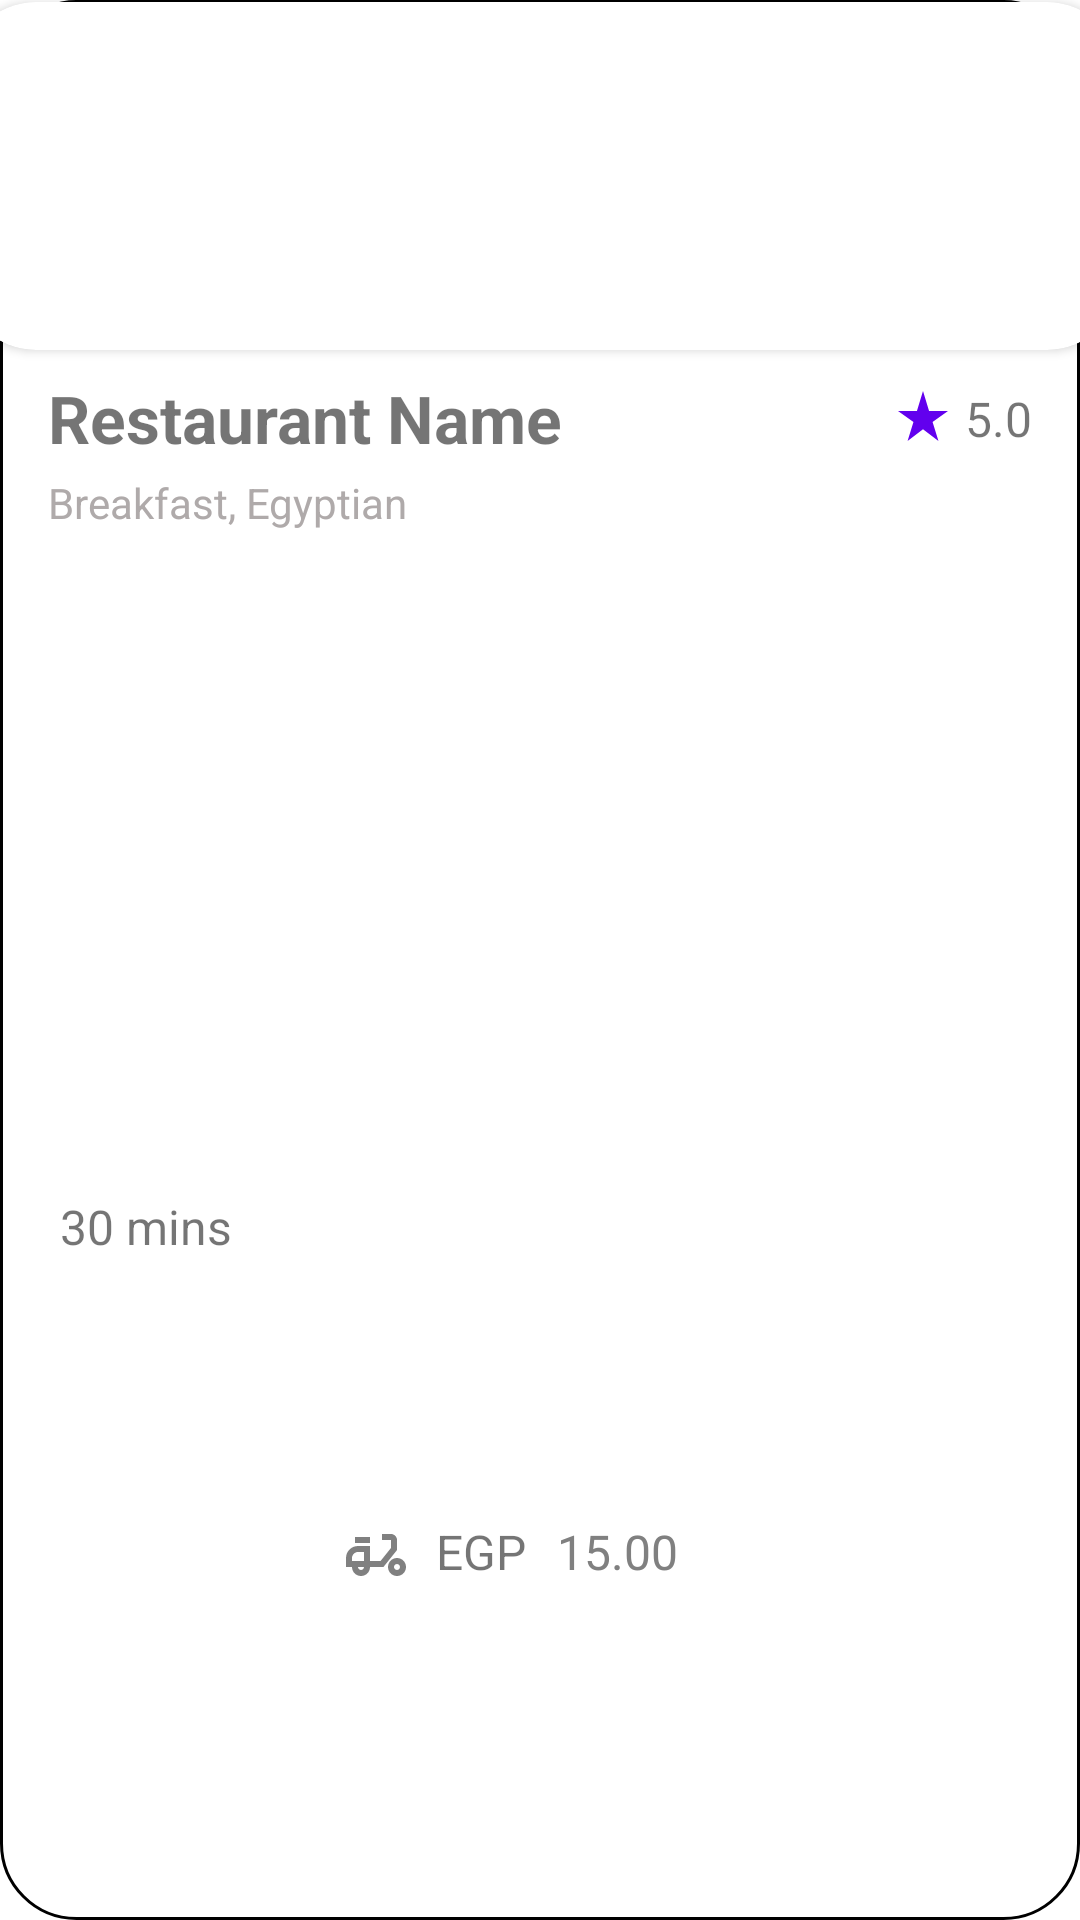

Locate icon controls on the screen. Image size 1080*1920, boxes as (x1, y1, x2, y2).
delivery: (346, 1534, 406, 1576)
star: (898, 391, 948, 441)
